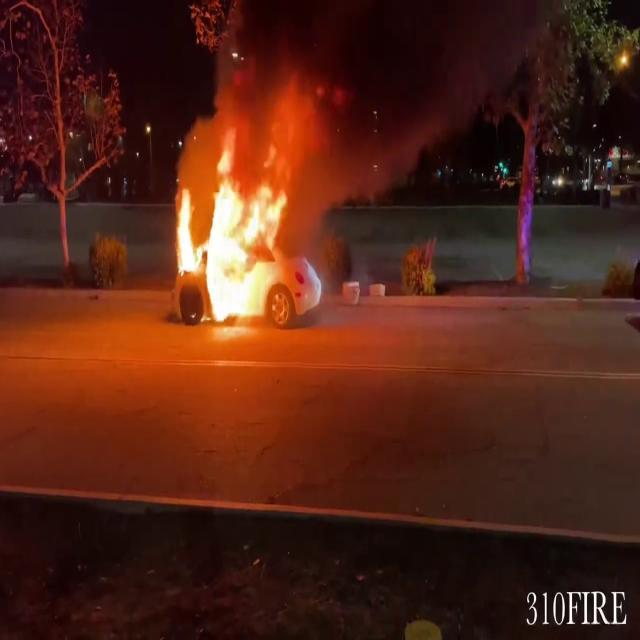Fire: (168, 142, 294, 332)
Smoke: (180, 0, 572, 172)
